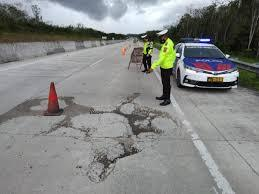Pothole: (81, 81, 170, 184)
